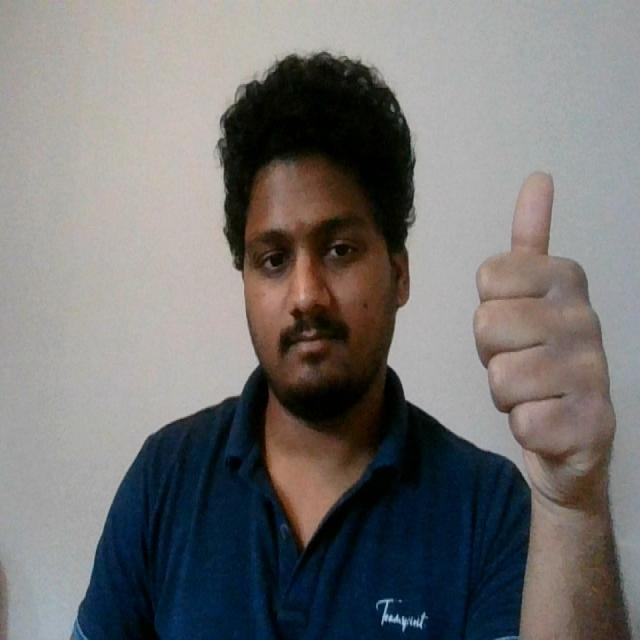Yes: (466, 164, 622, 506)
